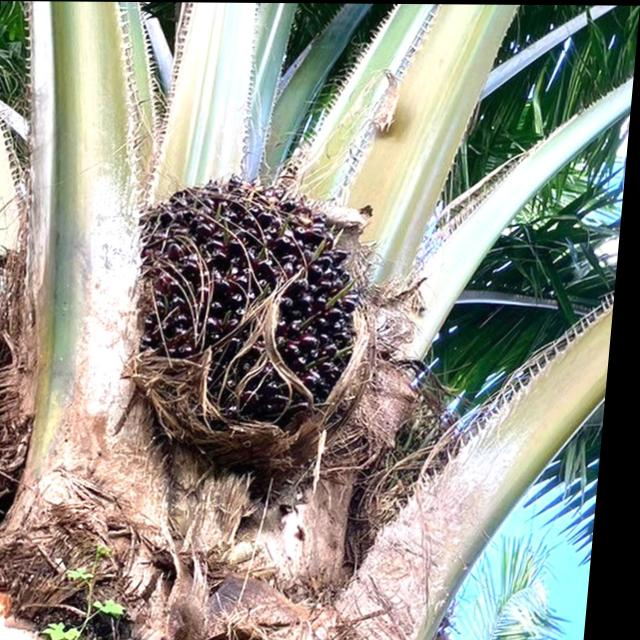ripe: (129, 179, 386, 468)
